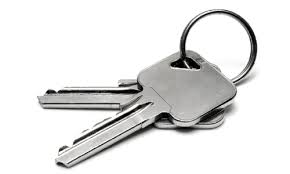keys: (38, 52, 237, 168)
